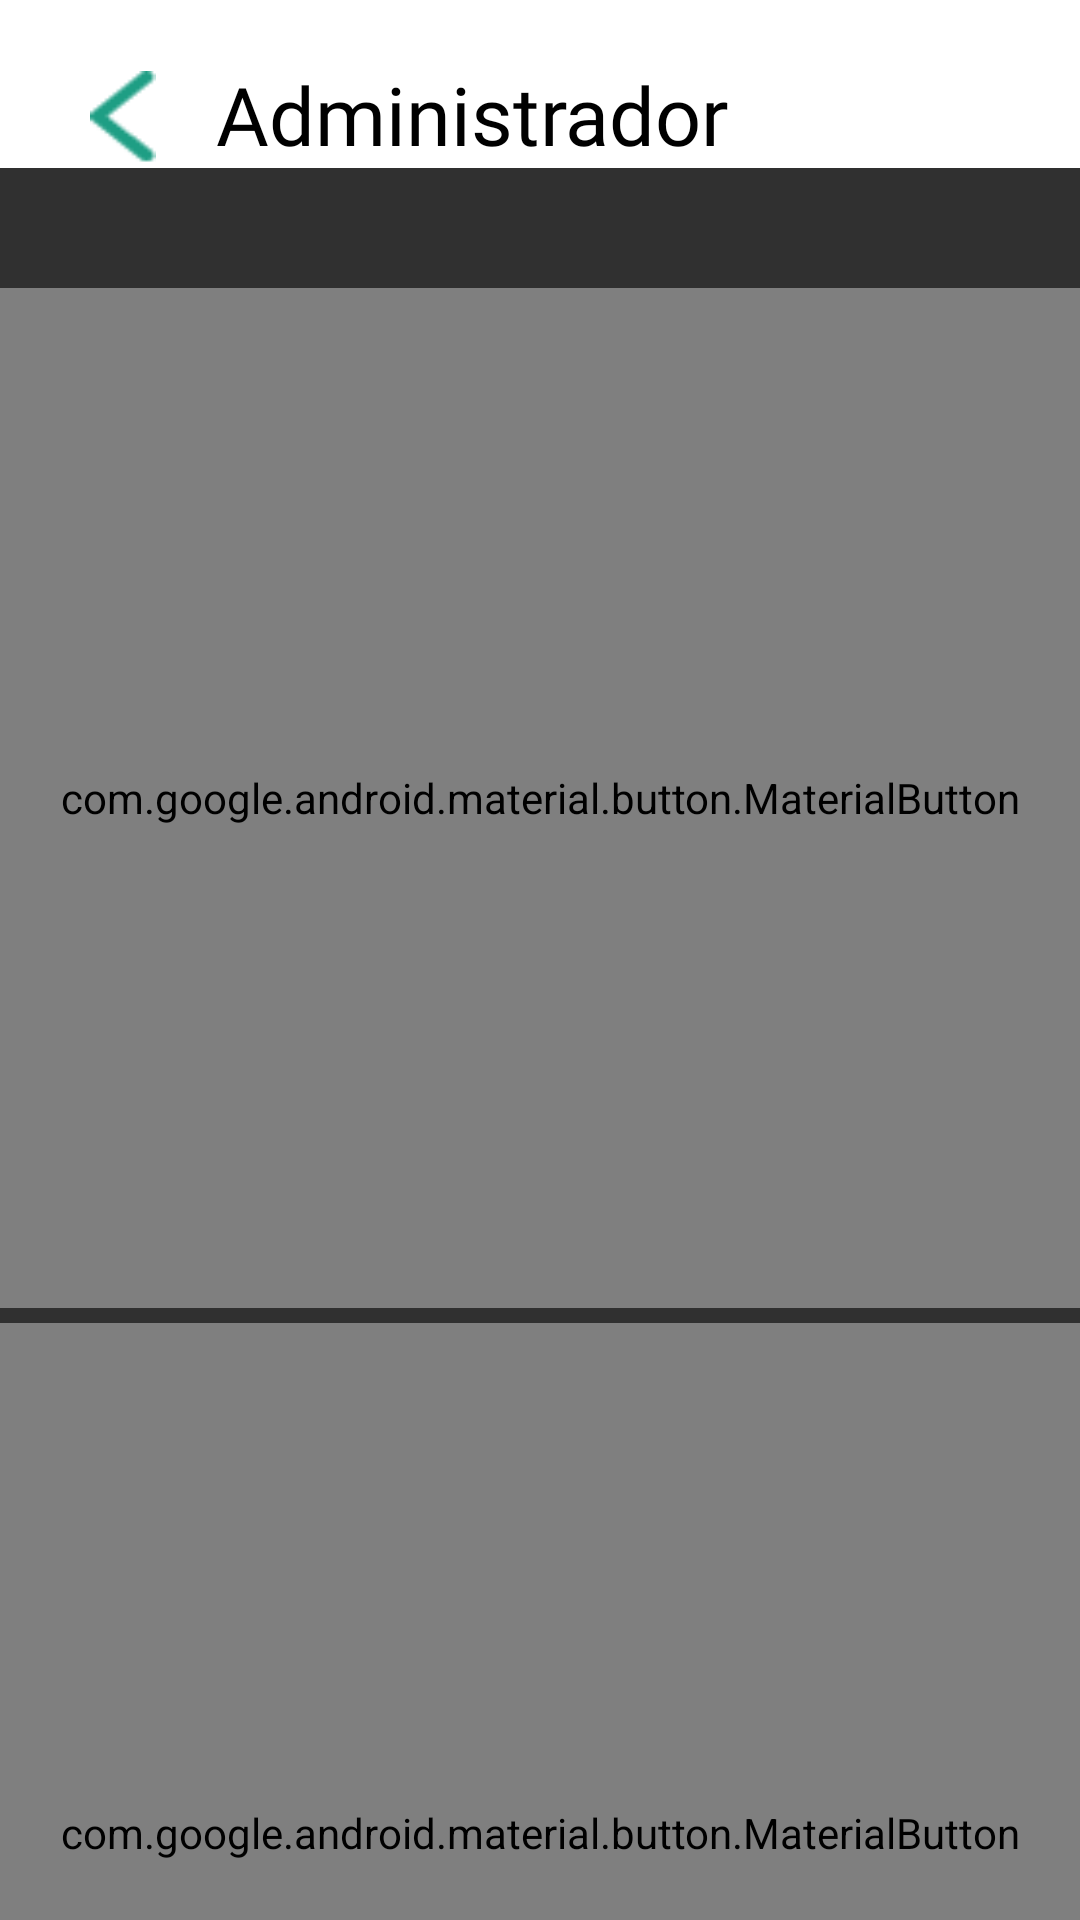

Point at icon controls on the screen. Image size 1080w x 1920h, points as point (x, y).
back arrow: point (123, 116)
